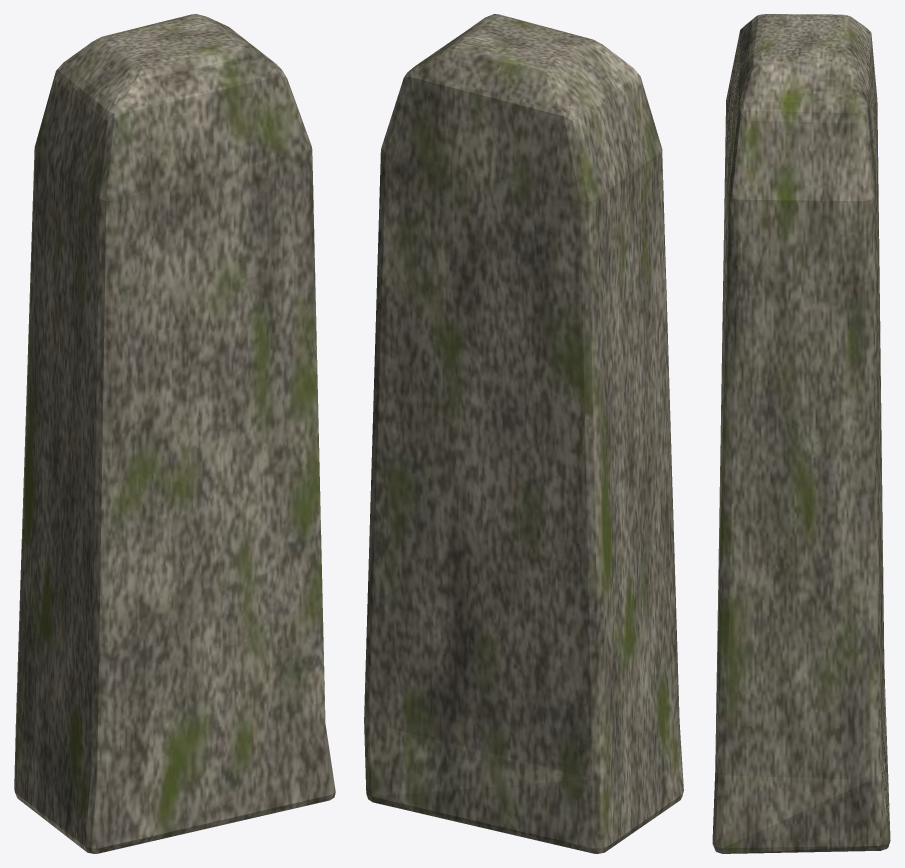
The model's file is Ancient_Milestone_Blank.glb.
The picture shows the model from 3 angles, left to right: view 1: azimuth 30°, elevation 25°; view 2: azimuth 150°, elevation 25°; view 3: azimuth 270°, elevation 25°; orthographic projection.
Parts seen in each view (by area): view 1: Ancient_Milestone_Blank; view 2: Ancient_Milestone_Blank; view 3: Ancient_Milestone_Blank.
Boxes of the visible parts, x1,y1,x2,y2 form: Ancient_Milestone_Blank: [14, 14, 335, 853]; Ancient_Milestone_Blank: [364, 14, 683, 853]; Ancient_Milestone_Blank: [712, 14, 890, 853].
Bounding box in the file's own units: 0.4972 × 1.46 × 0.31.
Materials: 1 (1 with a texture image).
